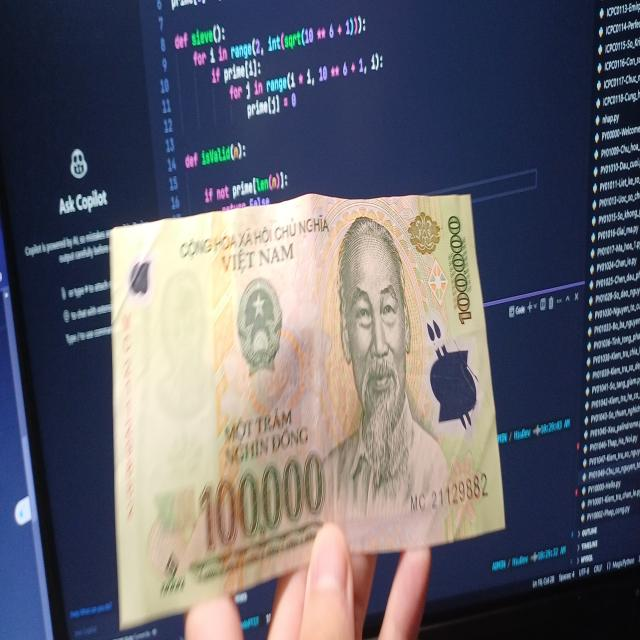100 000 VND: (111, 189, 506, 614)
